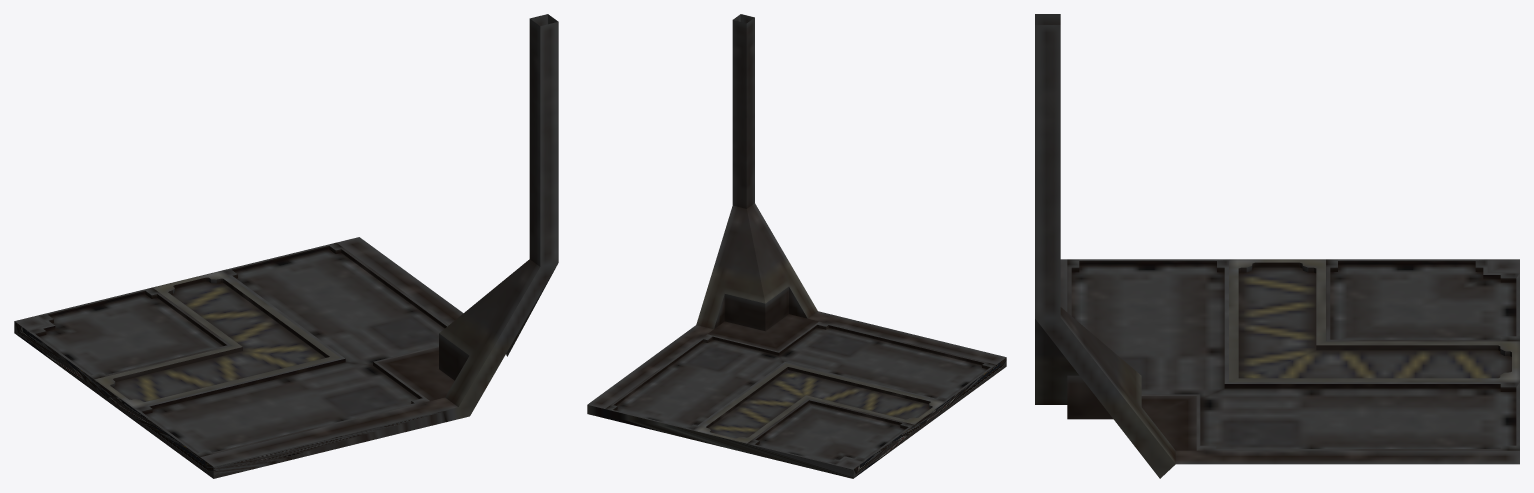
File: Wall_internal_1_corner_out.FBX
The picture shows the model from 3 angles, left to right: view 1: azimuth 30°, elevation 25°; view 2: azimuth 150°, elevation 25°; view 3: azimuth 270°, elevation 25°; orthographic projection. The views are drawn at different scales.
Parts seen in each view (by area): view 1: Wall_internal_1_corner_out; view 2: Wall_internal_1_corner_out; view 3: Wall_internal_1_corner_out.
Boxes of the visible parts, left/top/right/bottom form: Wall_internal_1_corner_out: left=14, top=14, right=558, bottom=478; Wall_internal_1_corner_out: left=587, top=14, right=1006, bottom=478; Wall_internal_1_corner_out: left=1035, top=14, right=1519, bottom=478.
Size of the model in its own units: 300 by 310 by 300.
